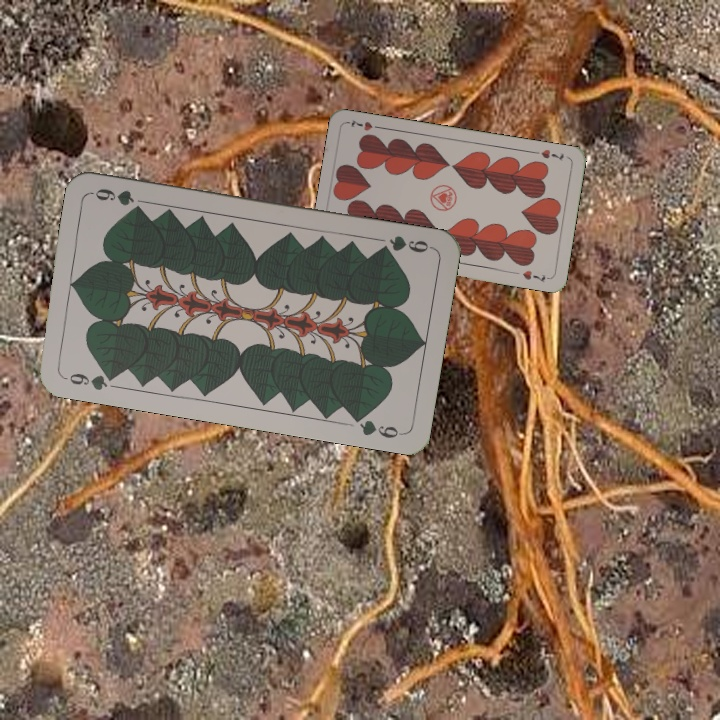G9: (374, 231, 435, 255), (59, 369, 120, 393)
H7: (530, 145, 566, 163)
